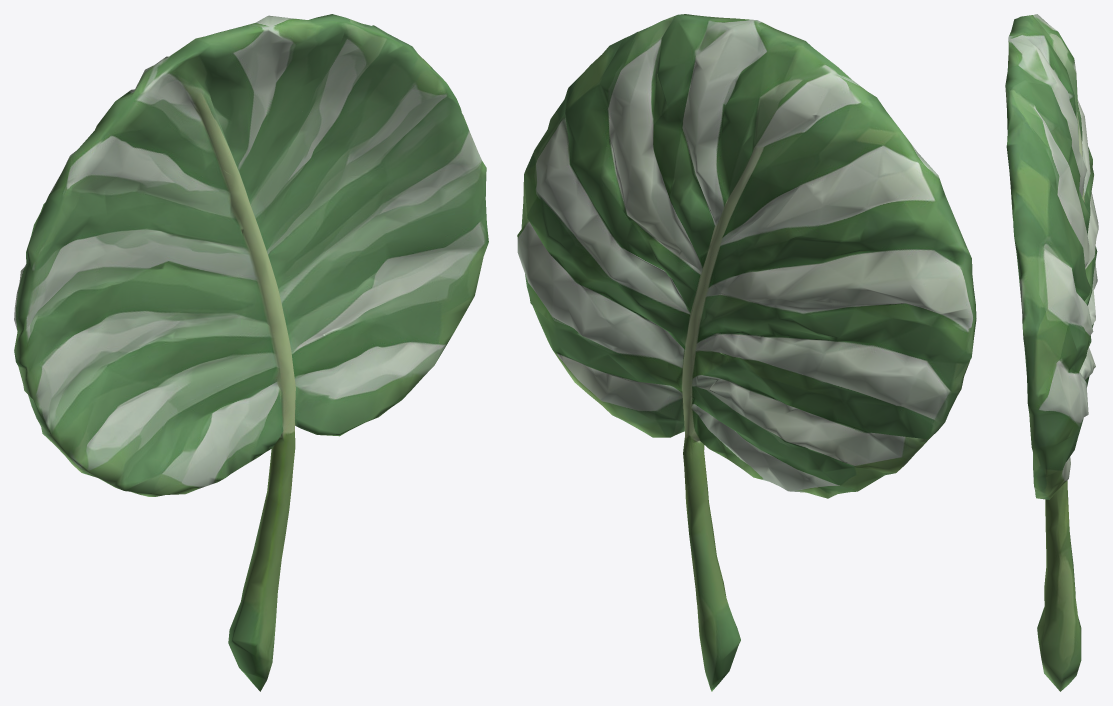
The model's file is ca_leaf_mature.glb.
The picture shows the model from 3 angles, left to right: view 1: azimuth 30°, elevation 25°; view 2: azimuth 150°, elevation 25°; view 3: azimuth 270°, elevation 25°; orthographic projection. The views are drawn at different scales.
Parts seen in each view (by area): view 1: tripo_node_d3dc1876-2aea-45dd-bf00-ae8714d6d0e4; view 2: tripo_node_d3dc1876-2aea-45dd-bf00-ae8714d6d0e4; view 3: tripo_node_d3dc1876-2aea-45dd-bf00-ae8714d6d0e4.
Part boxes in pixels (bbox=[...]): tripo_node_d3dc1876-2aea-45dd-bf00-ae8714d6d0e4: bbox=[14, 14, 488, 691]; tripo_node_d3dc1876-2aea-45dd-bf00-ae8714d6d0e4: bbox=[517, 14, 976, 691]; tripo_node_d3dc1876-2aea-45dd-bf00-ae8714d6d0e4: bbox=[1005, 14, 1098, 691].
Size of the model in its own units: 0.7474 by 1.05 by 0.1368.
1 material, 1 textured.
